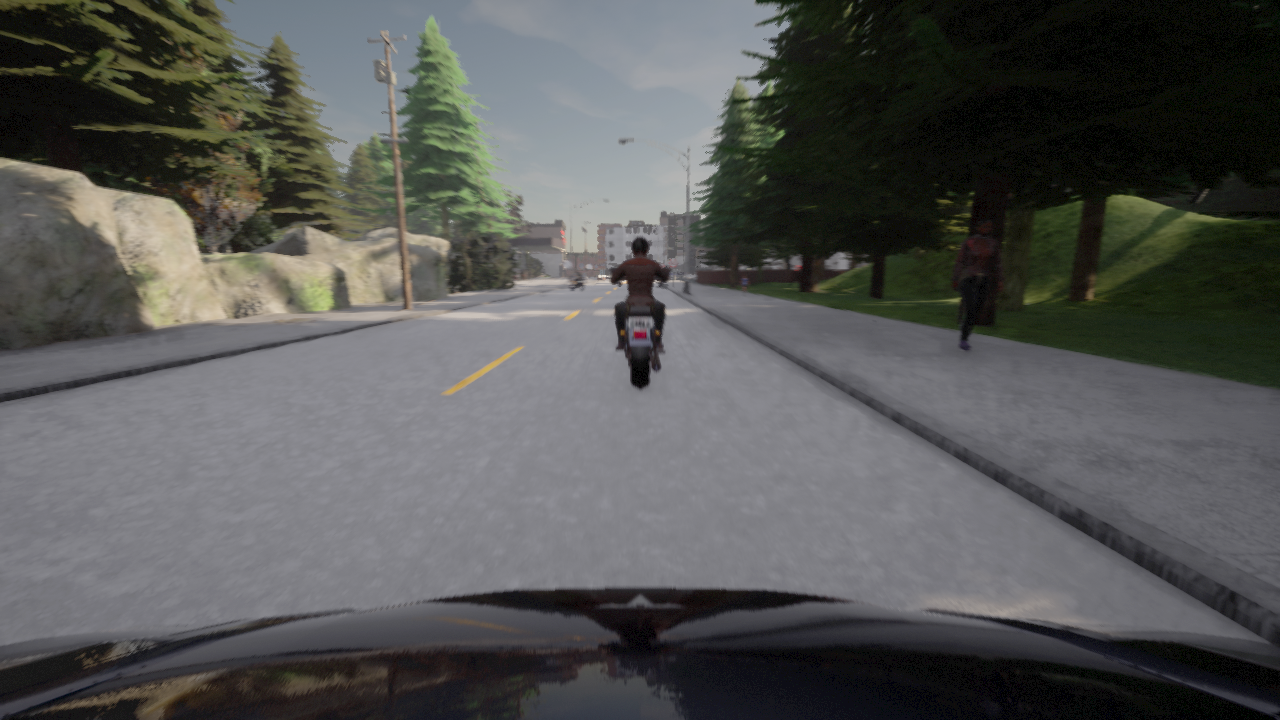cyclist: (0, 588, 1279, 719), (609, 268, 670, 388), (567, 273, 585, 291), (674, 272, 682, 273), (489, 274, 490, 275)
pedestrian: (951, 217, 1003, 351), (741, 274, 748, 295)
